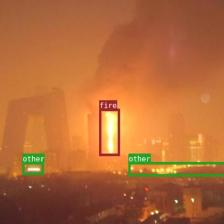fire: (98, 108, 119, 155)
